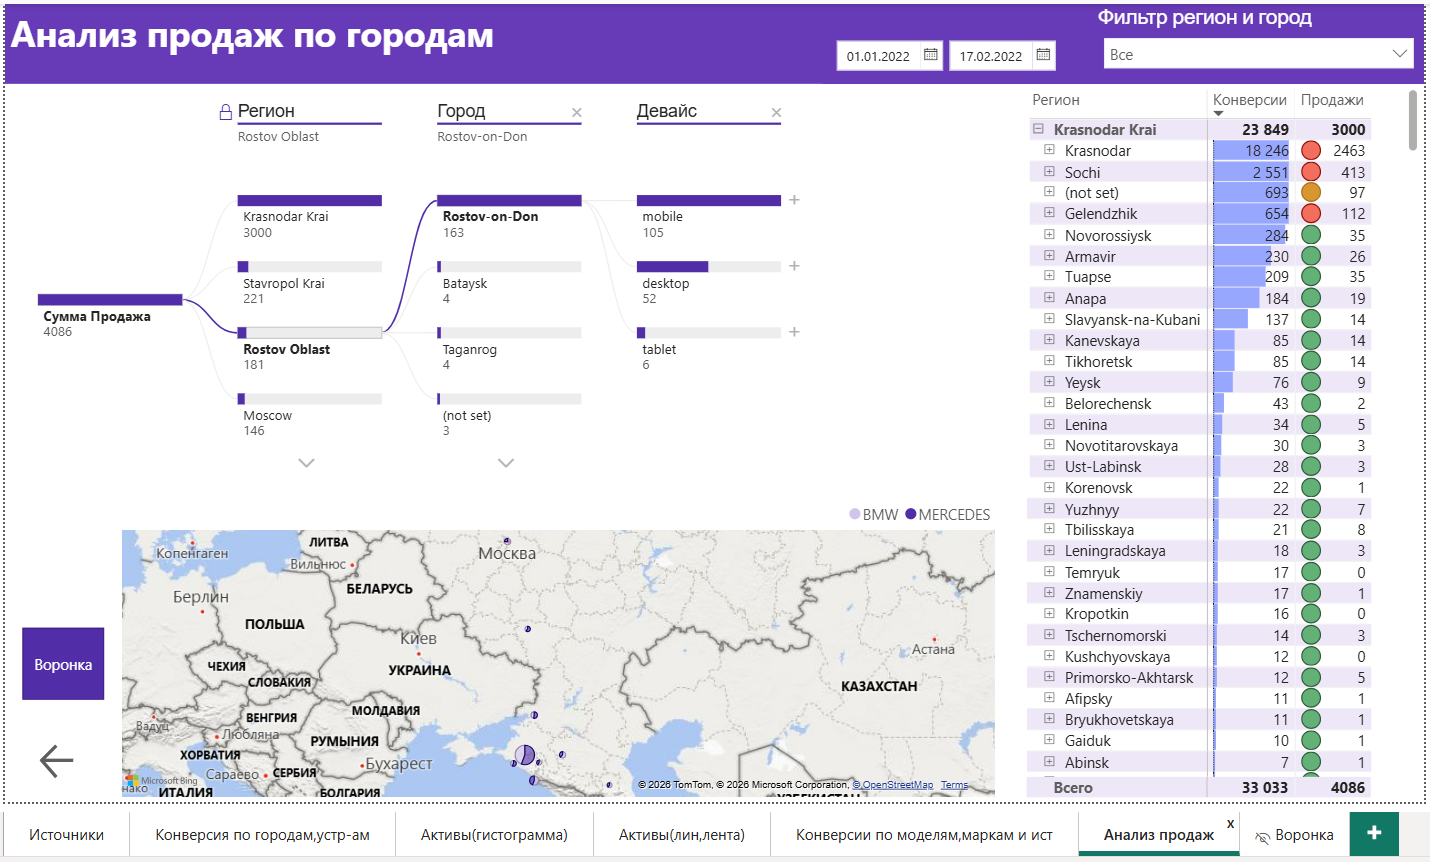

What the dashboard file says about the page in this screenshot:
{"tool":"powerbi","page":{"name":"Анализ продаж","canvas":[1280,720],"ordinal":5},"visuals":[{"type":"textbox","box":[0,0,1280.3,72.1],"z":0},{"type":"slicer","title":"Фильтр регион и город","fields":{"Values":["Маркетинговые данные.Регион","Маркетинговые данные.Город"]},"box":[980.7,1.2,299.6,70.9],"z":1000},{"type":"slicer","title":"Фильтр по дате","fields":{"Values":["Маркетинговые данные.Дата"]},"box":[737.4,22,243.3,50.1],"z":2000},{"type":"pivotTable","fields":{"Values":["Sum(Маркетинговые данные.Конверсия)","Sum(Данные из CRM.Продажа)"],"Rows":["Маркетинговые данные.Регион","Маркетинговые данные.Город","Маркетинговые данные.Марка из домена"]},"box":[916.8,72.3,363,647.8],"z":3000},{"type":"map","fields":{"Category":["Маркетинговые данные.Город"],"Size":["Sum(Данные из CRM.Продажа)"],"Series":["Маркетинговые данные.Марка из домена"]},"box":[99.8,439.6,798.2,280.5],"z":4000},{"type":"decompositionTreeVisual","fields":{"Analyze":["Sum(Данные из CRM.Продажа)"],"ExplainBy":["Маркетинговые данные.Регион","Маркетинговые данные.Город","Маркетинговые данные.Девайс","Маркетинговые данные.Модель","Маркетинговые данные.Источник перехода"]},"box":[0,72.3,924,367.3],"z":5000},{"type":"shape","box":[15.9,562.5,73.7,65.1],"z":6000},{"type":"actionButton","box":[27.5,662.3,99.8,40.5],"z":7000}]}

Visuals, with their boxes on the page's 1280x720 design canvas (x1, y1, x2, y2). These are canvas units, not pixel positions in the 1430x862 screenshot, which may show the page scaled, cropped or inside an application window:
textbox: bbox(0, 0, 1280, 72)
"Фильтр регион и город" slicer: bbox(981, 1, 1280, 72)
"Фильтр по дате" slicer: bbox(737, 22, 981, 72)
pivotTable - Sum(Маркетинговые данные.Конверсия) x Sum(Данные из CRM.Продажа): bbox(917, 72, 1280, 720)
map - Маркетинговые данные.Город x Sum(Данные из CRM.Продажа): bbox(100, 440, 898, 720)
decompositionTreeVisual - Sum(Данные из CRM.Продажа) x Маркетинговые данные.Регион: bbox(0, 72, 924, 440)
shape: bbox(16, 562, 90, 628)
actionButton: bbox(28, 662, 127, 703)
